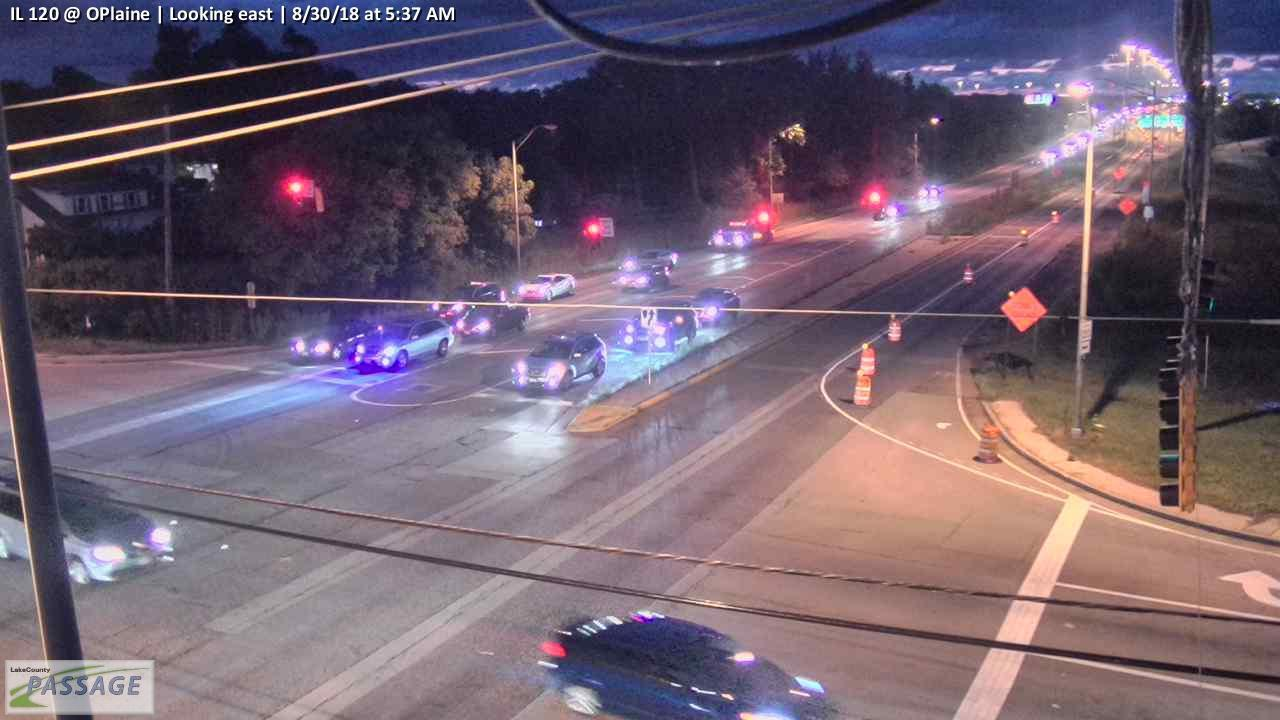SUV: (510, 332, 608, 392), (354, 317, 455, 372), (617, 301, 697, 350), (431, 281, 506, 322), (516, 272, 578, 303)
Sedan: (538, 607, 840, 720), (1, 474, 175, 581), (455, 302, 530, 341), (687, 286, 741, 326)
